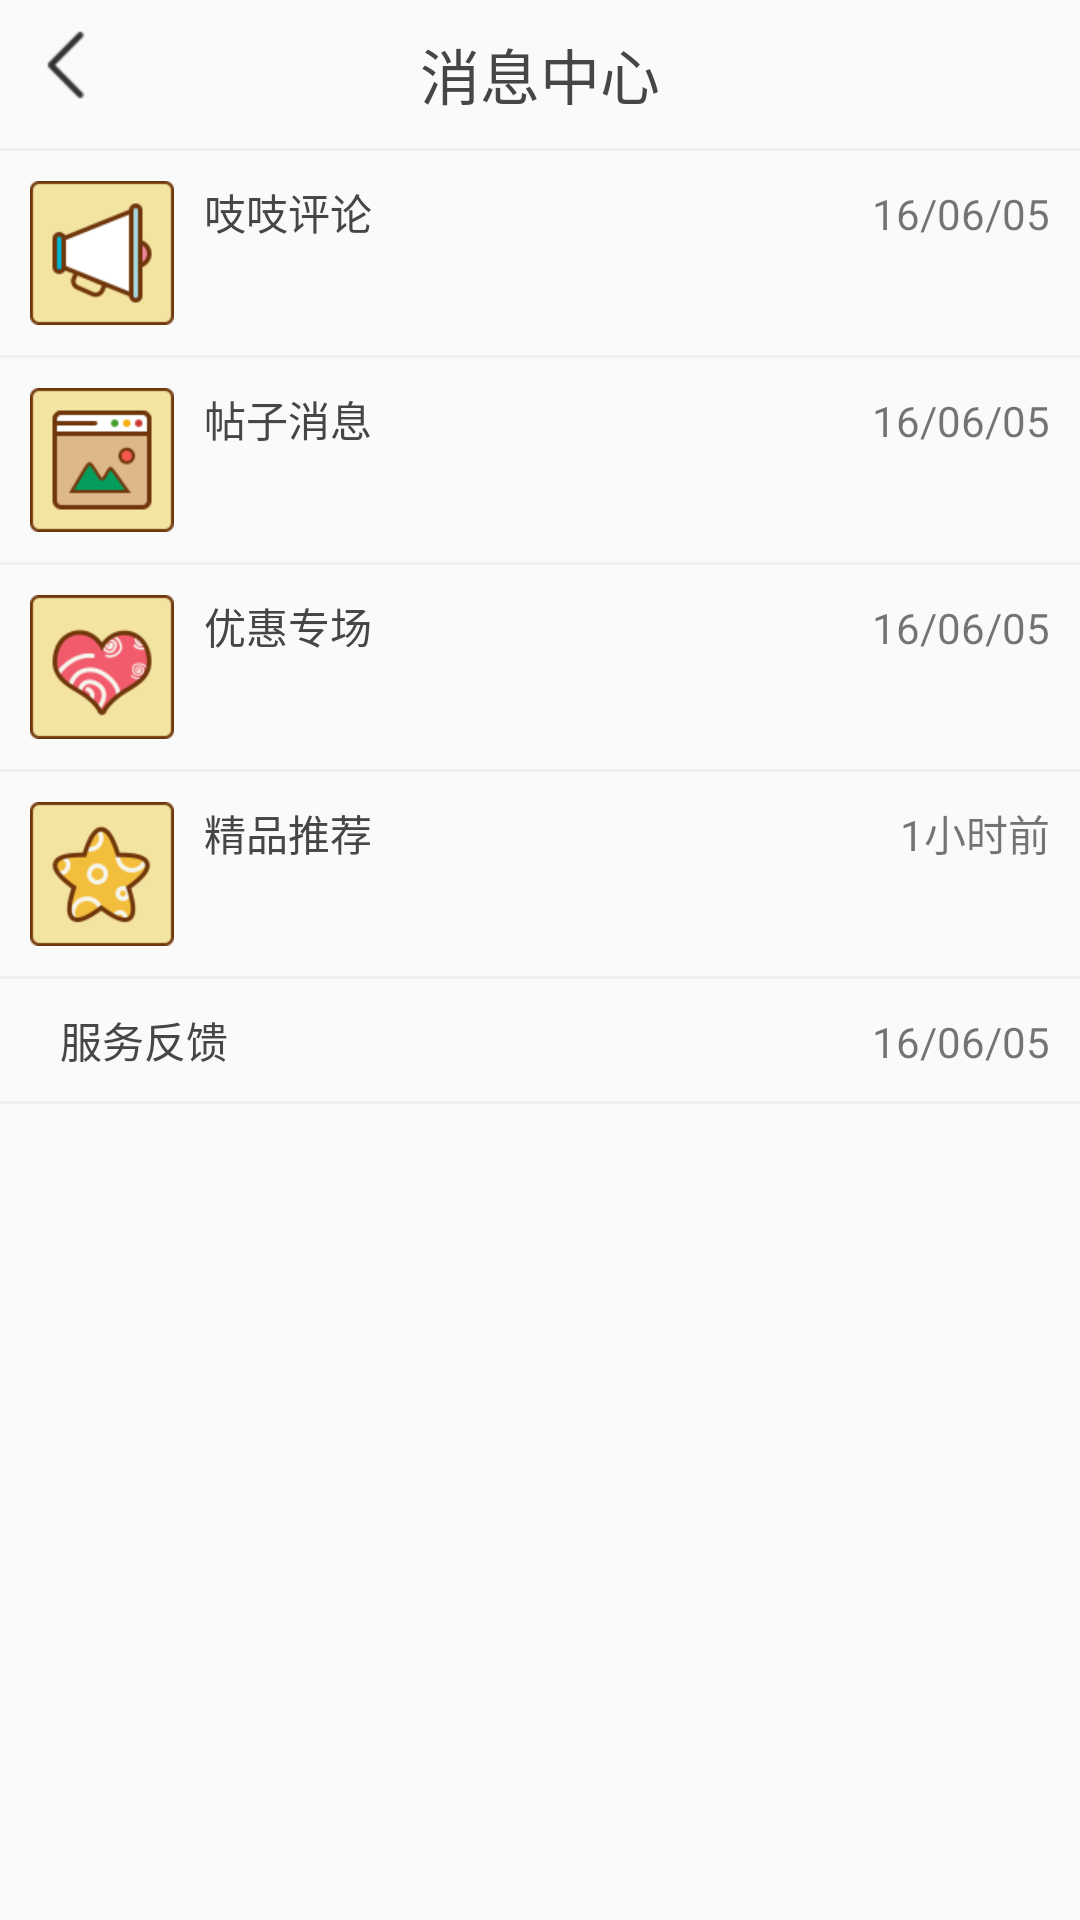

Icon bounding boxes for this 1080*1920 phone screenshot, format rect(x1, y1, x2, y2):
news good: rect(30, 802, 174, 946)
news post: rect(30, 388, 174, 532)
top bar left back: rect(47, 31, 85, 99)
